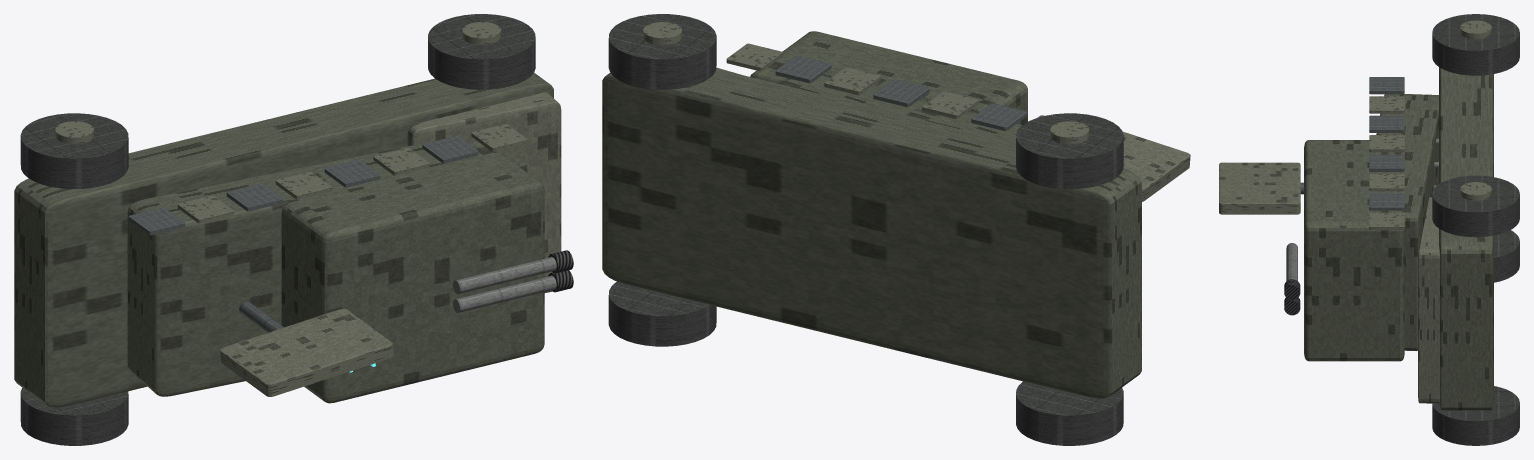
File: v-u11-vanguard-recon-vehicle-lod0.glb
The picture shows the model from 3 angles, left to right: view 1: azimuth 30°, elevation 25°; view 2: azimuth 150°, elevation 25°; view 3: azimuth 270°, elevation 25°; orthographic projection. The views are drawn at different scales.
Visible parts, largest first — view 1: recon_cabin, chassis_lower, upper_hull, recon_sensor_array, chassis_nose, chassis_wheel_1_0, chassis_wheel_1_1, chassis_wheel_-1_0, recon_gun_barrel_0, recon_gun_barrel_1, service_hatch_3, service_hatch_4 (+9 smaller); view 2: chassis_lower, recon_cabin, chassis_wheel_1_1, chassis_wheel_1_0, chassis_wheel_-1_0, chassis_wheel_-1_1, upper_hull, recon_sensor_array, service_hatch_4, service_hatch_5, service_hatch_6, service_hatch_3 (+4 smaller); view 3: recon_cabin, chassis_lower, upper_hull, recon_sensor_array, chassis_wheel_1_1, chassis_wheel_1_0, chassis_nose, chassis_wheel_-1_1, chassis_wheel_-1_0, service_hatch_1, service_hatch_6, service_hatch_3 (+9 smaller).
Boxes of the visible parts, x1,y1,x2,y2 form: recon_cabin: (281, 141, 544, 403); chassis_lower: (14, 72, 553, 407); upper_hull: (127, 141, 466, 396); recon_sensor_array: (220, 308, 393, 396); chassis_nose: (407, 92, 561, 292); chassis_wheel_1_0: (20, 113, 128, 189); chassis_wheel_1_1: (428, 14, 535, 89); chassis_wheel_-1_0: (20, 387, 128, 445); recon_gun_barrel_0: (453, 275, 556, 312); recon_gun_barrel_1: (453, 257, 556, 294); service_hatch_3: (275, 171, 331, 199); service_hatch_4: (324, 159, 380, 187); chassis_lower: (602, 68, 1141, 398); recon_cabin: (750, 31, 1027, 124); chassis_wheel_1_1: (608, 14, 716, 89); chassis_wheel_1_0: (1016, 113, 1123, 189); chassis_wheel_-1_0: (1016, 381, 1123, 445); chassis_wheel_-1_1: (608, 281, 716, 346); upper_hull: (775, 69, 1022, 141); recon_sensor_array: (1122, 131, 1190, 201); service_hatch_4: (873, 79, 929, 107); service_hatch_5: (824, 67, 880, 95); service_hatch_6: (775, 55, 831, 83); service_hatch_3: (922, 91, 978, 119); recon_cabin: (1304, 140, 1404, 361); chassis_lower: (1439, 67, 1493, 410); upper_hull: (1365, 94, 1438, 350); recon_sensor_array: (1219, 162, 1300, 214); chassis_wheel_1_1: (1432, 175, 1519, 237); chassis_wheel_1_0: (1432, 14, 1519, 75); chassis_nose: (1418, 197, 1439, 403); chassis_wheel_-1_1: (1432, 386, 1519, 445); chassis_wheel_-1_0: (1494, 230, 1519, 282); service_hatch_1: (1369, 96, 1404, 113); service_hatch_6: (1369, 193, 1404, 210); service_hatch_3: (1369, 135, 1404, 152).
Size of what is drawn, in the model's own units: 4.52 by 2.55 by 2.85.
7 materials, 7 textured.
